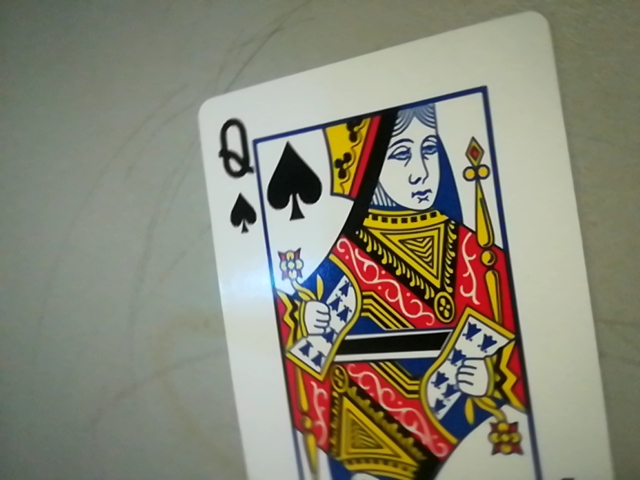ht q: (208, 107, 261, 235)
